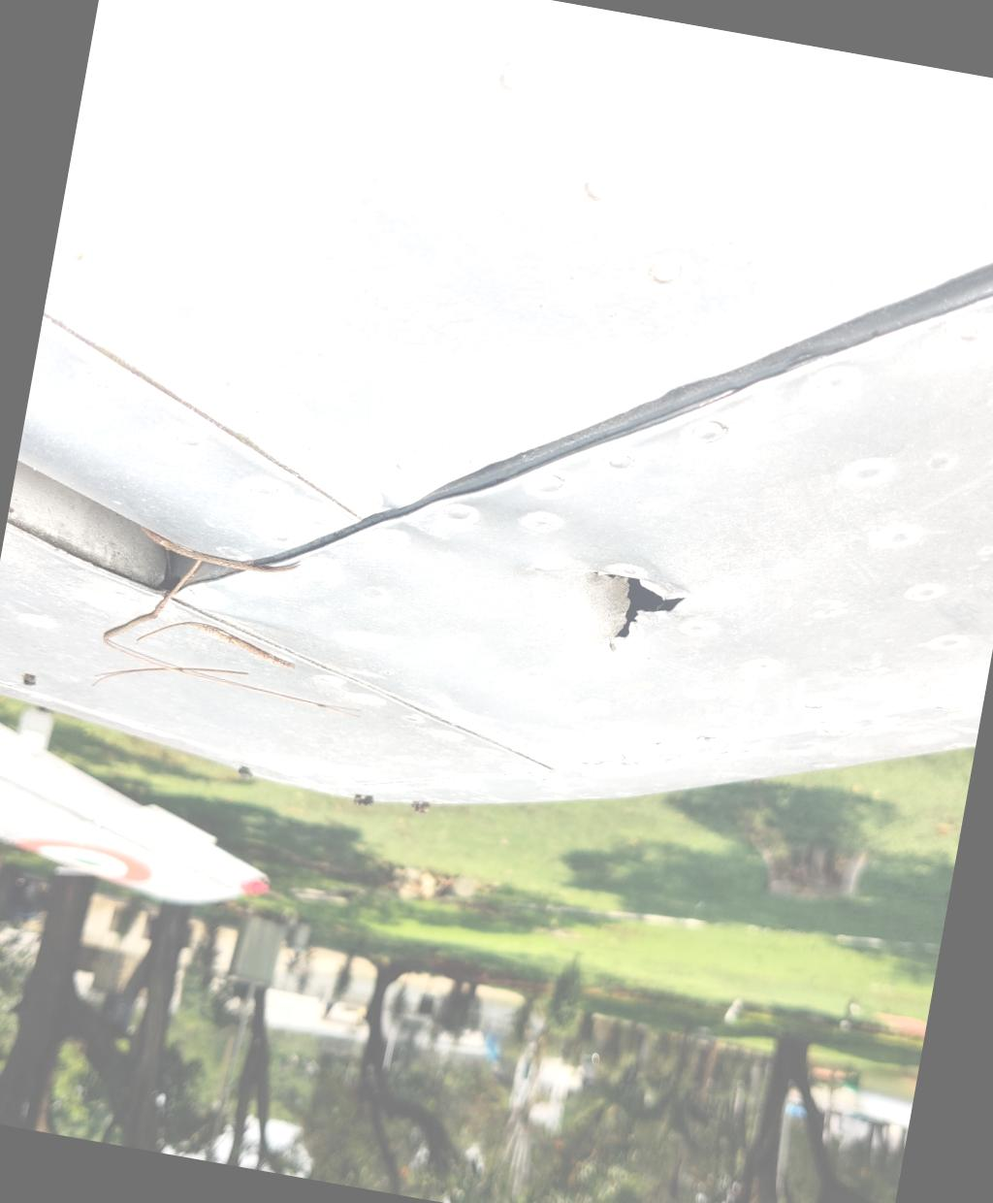crack: (556, 546, 714, 697)
